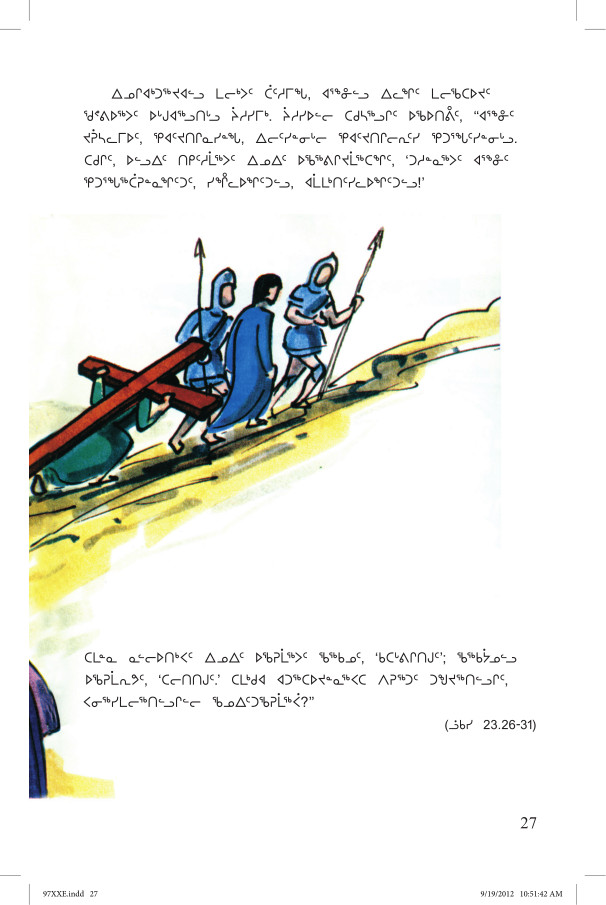inuktitut: (76, 80, 523, 197), (77, 643, 528, 709)
